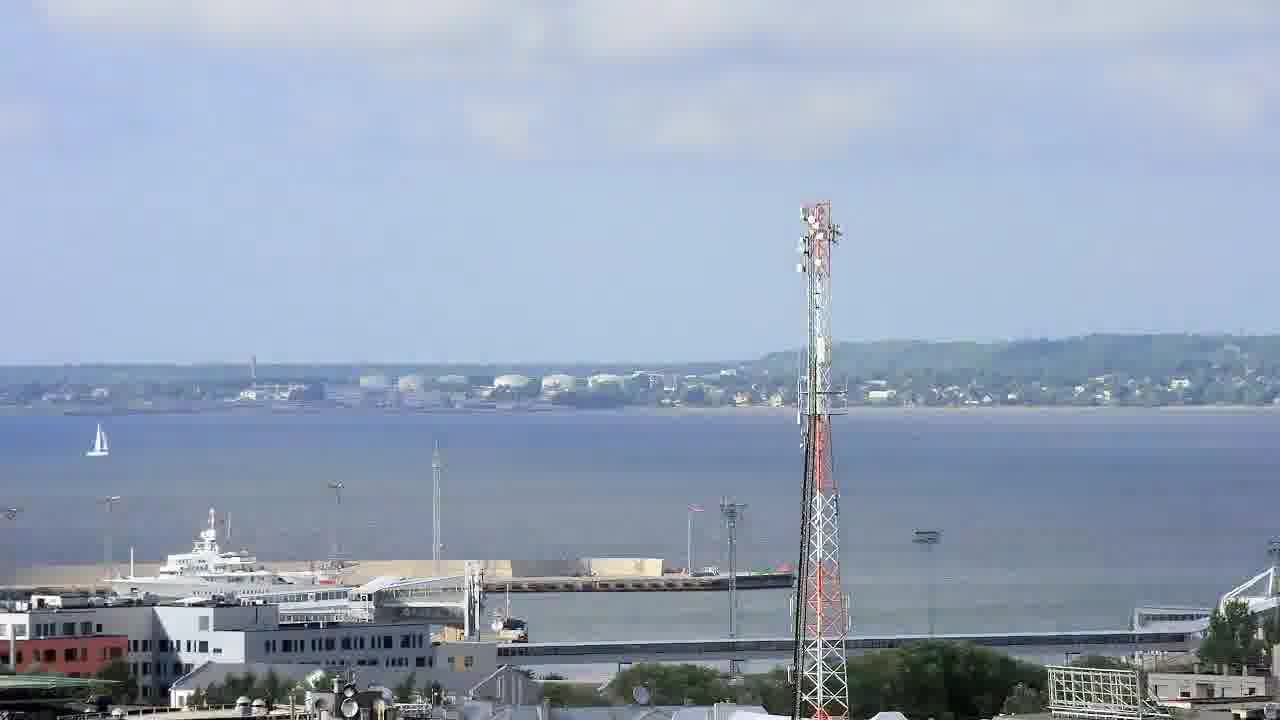type-2: (74, 421, 126, 464)
type-3: (98, 503, 361, 603)
